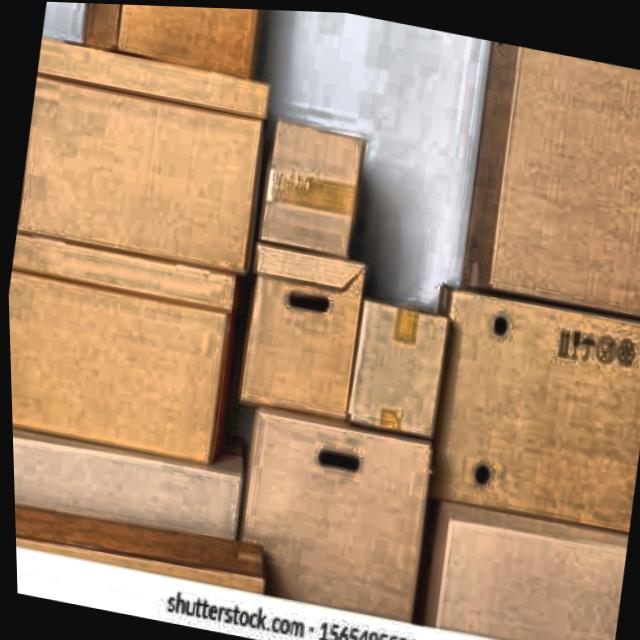Cardbox: (381, 30, 640, 616), (405, 243, 640, 581), (9, 37, 293, 290), (5, 209, 250, 463), (227, 392, 466, 640), (221, 218, 390, 435), (240, 95, 386, 265), (338, 273, 470, 445), (57, 2, 269, 89)
